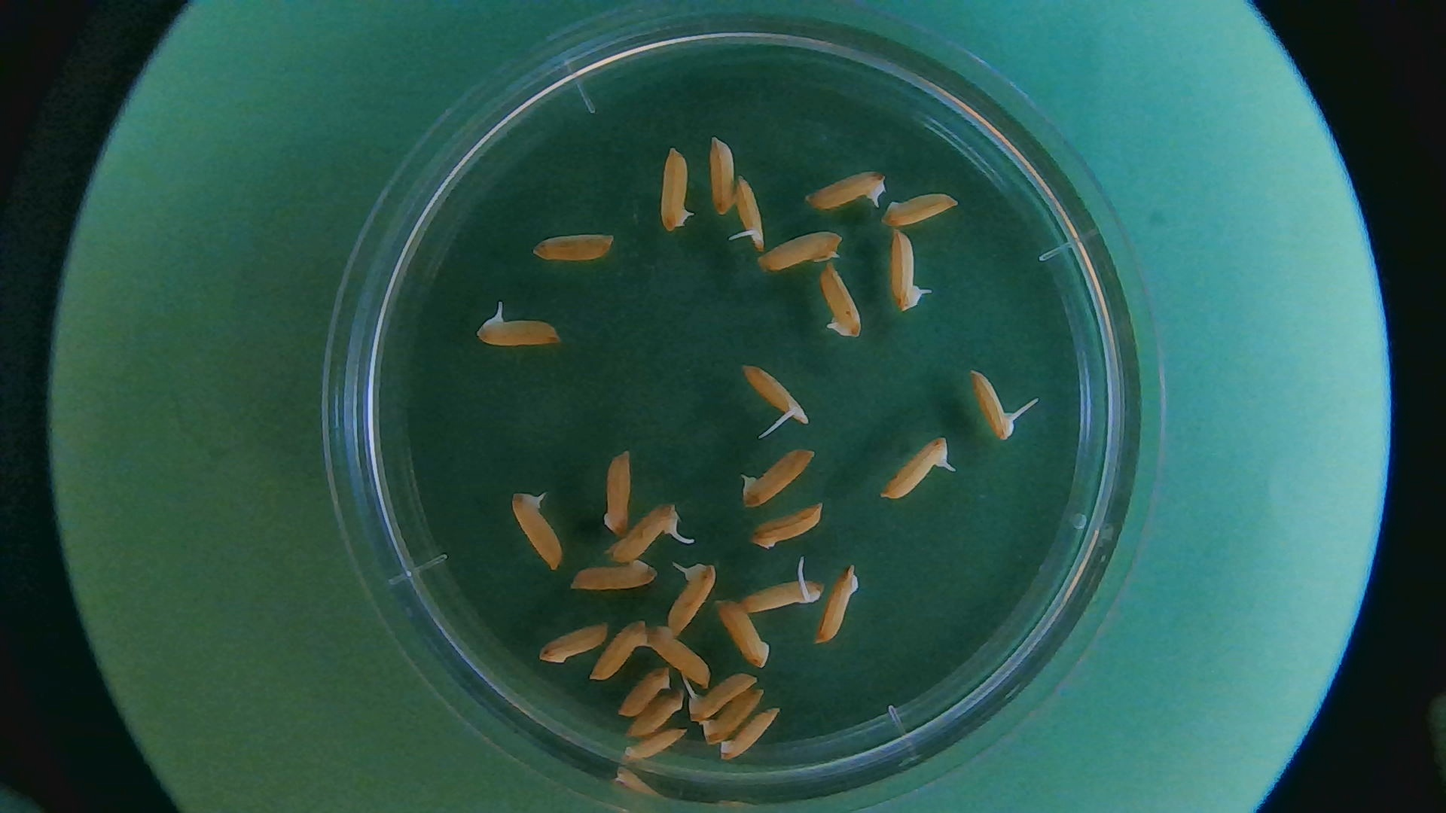no: (737, 445, 817, 509), (692, 682, 766, 750), (639, 624, 712, 690), (711, 589, 770, 669), (589, 612, 648, 681), (816, 559, 862, 646), (817, 262, 865, 340), (720, 703, 783, 762), (597, 447, 637, 537), (752, 502, 823, 549), (755, 233, 843, 270), (628, 685, 685, 741), (659, 145, 694, 233), (570, 558, 657, 592), (538, 622, 610, 663), (618, 662, 671, 717), (529, 233, 617, 263), (624, 726, 690, 766), (706, 135, 737, 215), (883, 193, 959, 225)
yes: (509, 491, 567, 574), (881, 437, 956, 501), (606, 504, 679, 564), (738, 362, 807, 425), (667, 563, 716, 637), (686, 673, 758, 723), (806, 170, 886, 213), (741, 580, 825, 615), (886, 229, 921, 312), (474, 315, 558, 349), (970, 373, 1011, 441), (734, 172, 765, 253)
